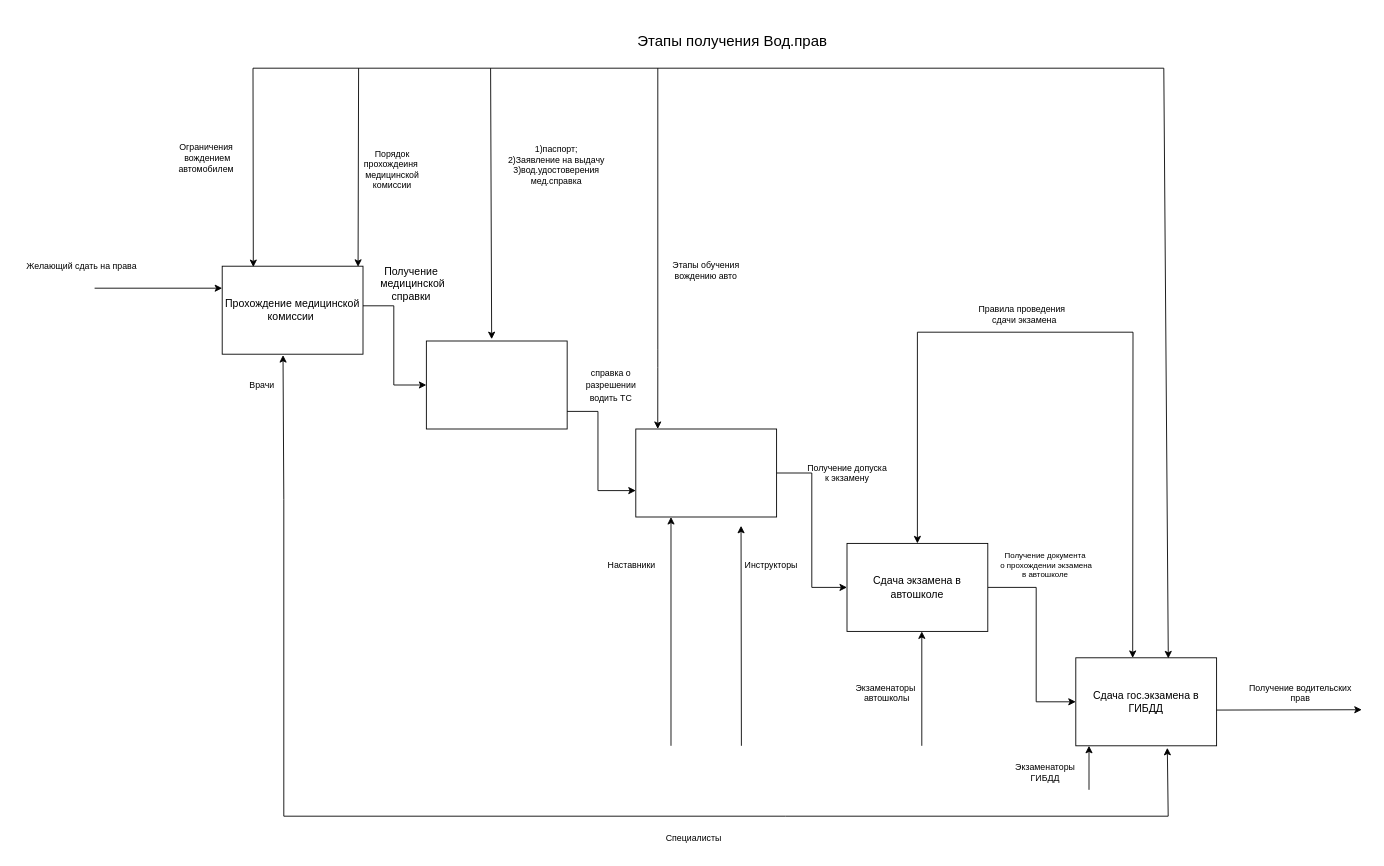
This 1384x866 diagram has some shape labels left out. The box of each missing label's shape, as (x1, y1, x2, y2) in pixels:
Обучение в автошколе: (635, 428, 777, 517)
перечень необходимых документов: (425, 340, 567, 429)
